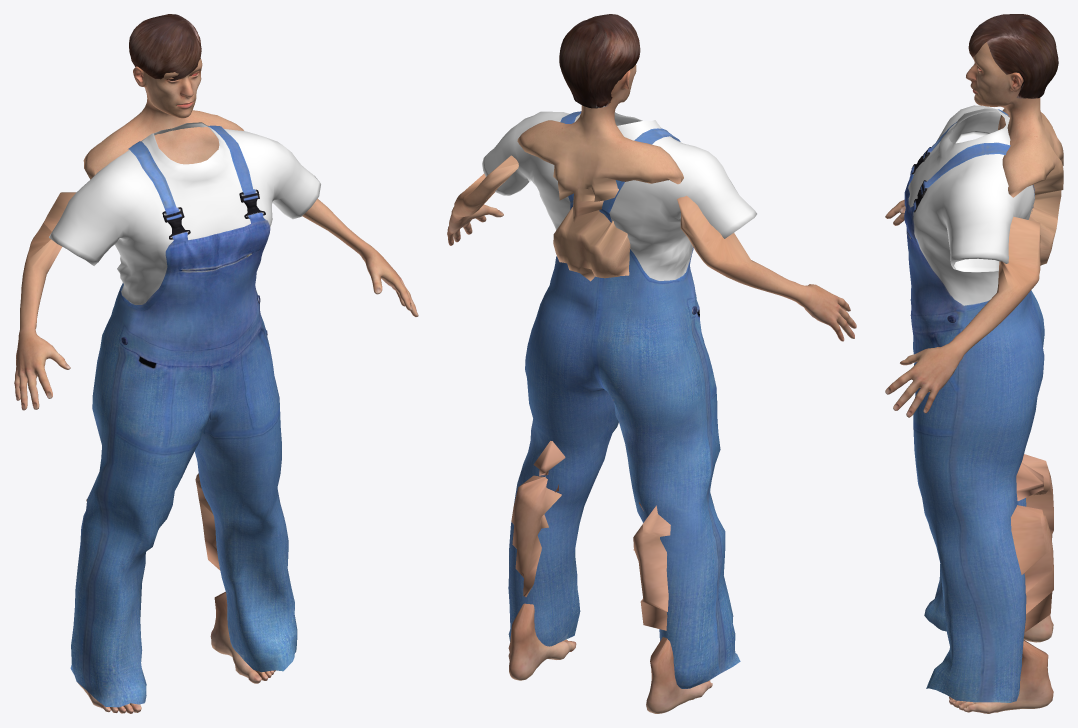
File: tommy.glb
3 views of the same model, side by side, from view 1: azimuth 30°, elevation 25°; view 2: azimuth 150°, elevation 25°; view 3: azimuth 270°, elevation 25° (orthographic).
Parts seen in each view (by area): view 1: clothes_male_worksuit01, Human, hair_short03; view 2: clothes_male_worksuit01, Human, hair_short03; view 3: clothes_male_worksuit01, Human, hair_short03.
Boxes of the visible parts, bbox=[...] form: clothes_male_worksuit01: bbox=[49, 122, 320, 707]; Human: bbox=[14, 58, 418, 713]; hair_short03: bbox=[129, 14, 201, 92]; clothes_male_worksuit01: bbox=[482, 111, 756, 688]; Human: bbox=[447, 65, 856, 713]; hair_short03: bbox=[559, 14, 640, 108]; clothes_male_worksuit01: bbox=[904, 105, 1044, 702]; Human: bbox=[885, 42, 1063, 713]; hair_short03: bbox=[968, 14, 1058, 98].
Bounding box in the file's own units: 1.1 × 1.75 × 0.4316.
Materials: 4 (4 with a texture image).
